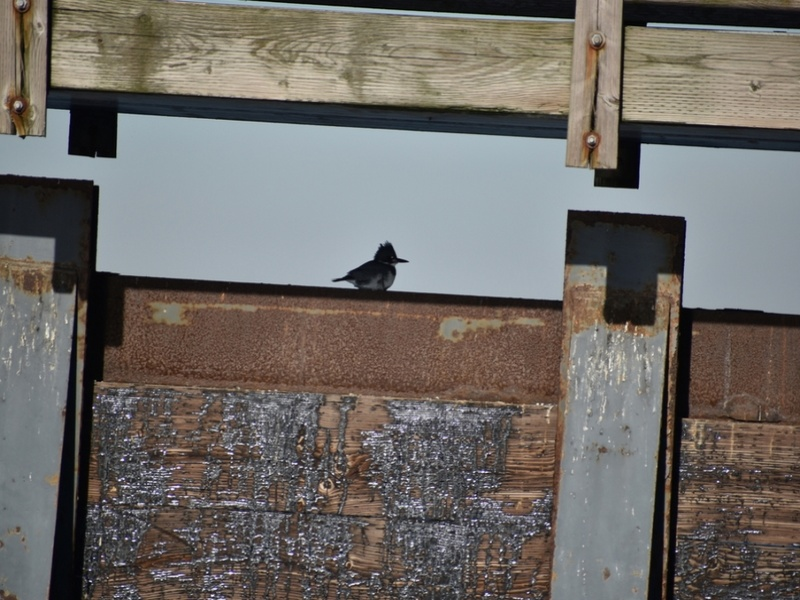kingfisher: (331, 239, 410, 292)
